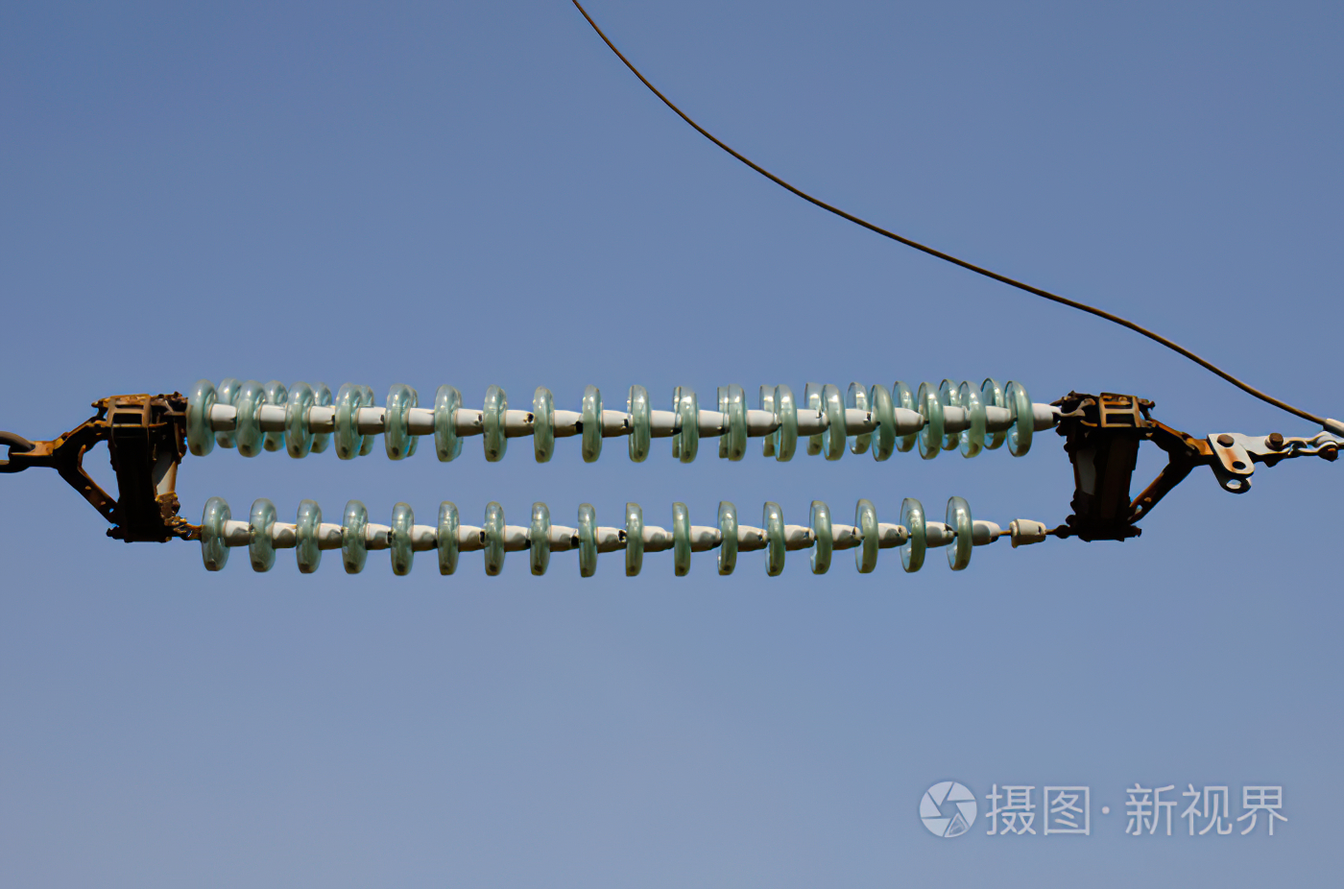insulator: (184, 370, 1036, 466), (196, 493, 976, 579)
